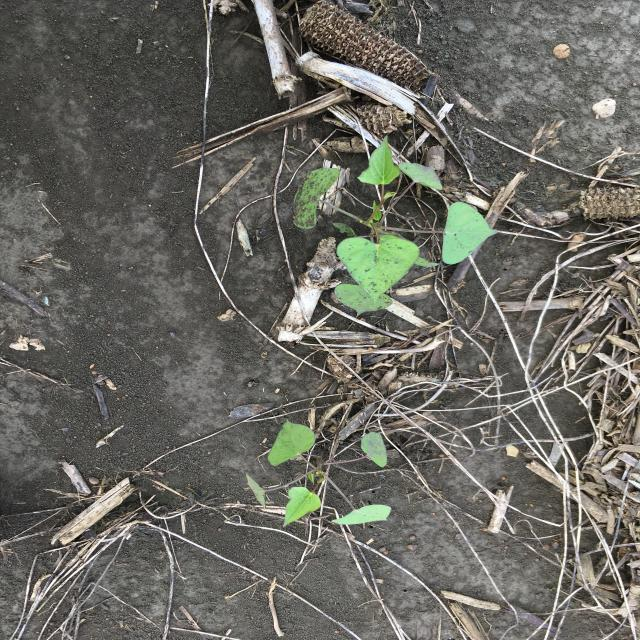MorningGlory: (290, 132, 504, 319), (246, 419, 394, 530)
